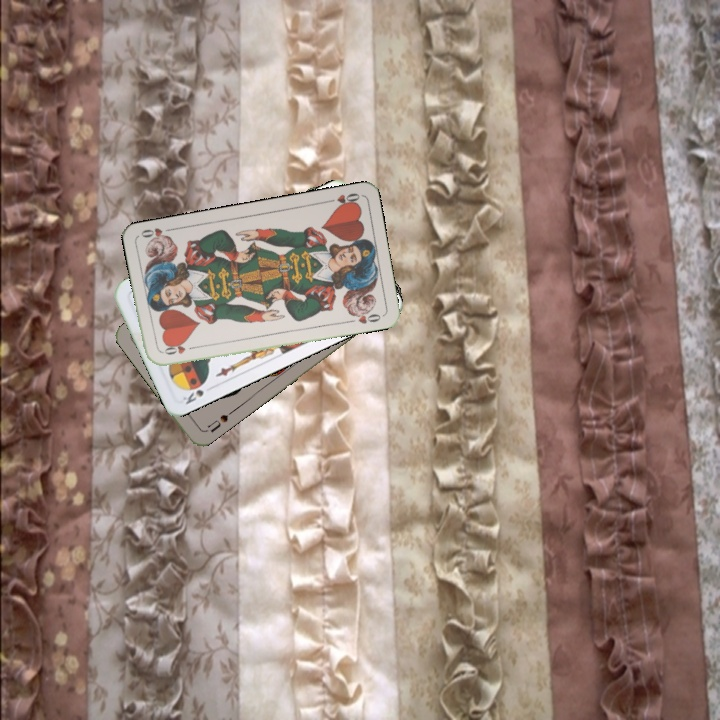HO: (322, 189, 362, 210), (158, 341, 198, 357)
SK: (179, 378, 209, 407)
SU: (201, 406, 236, 435)
